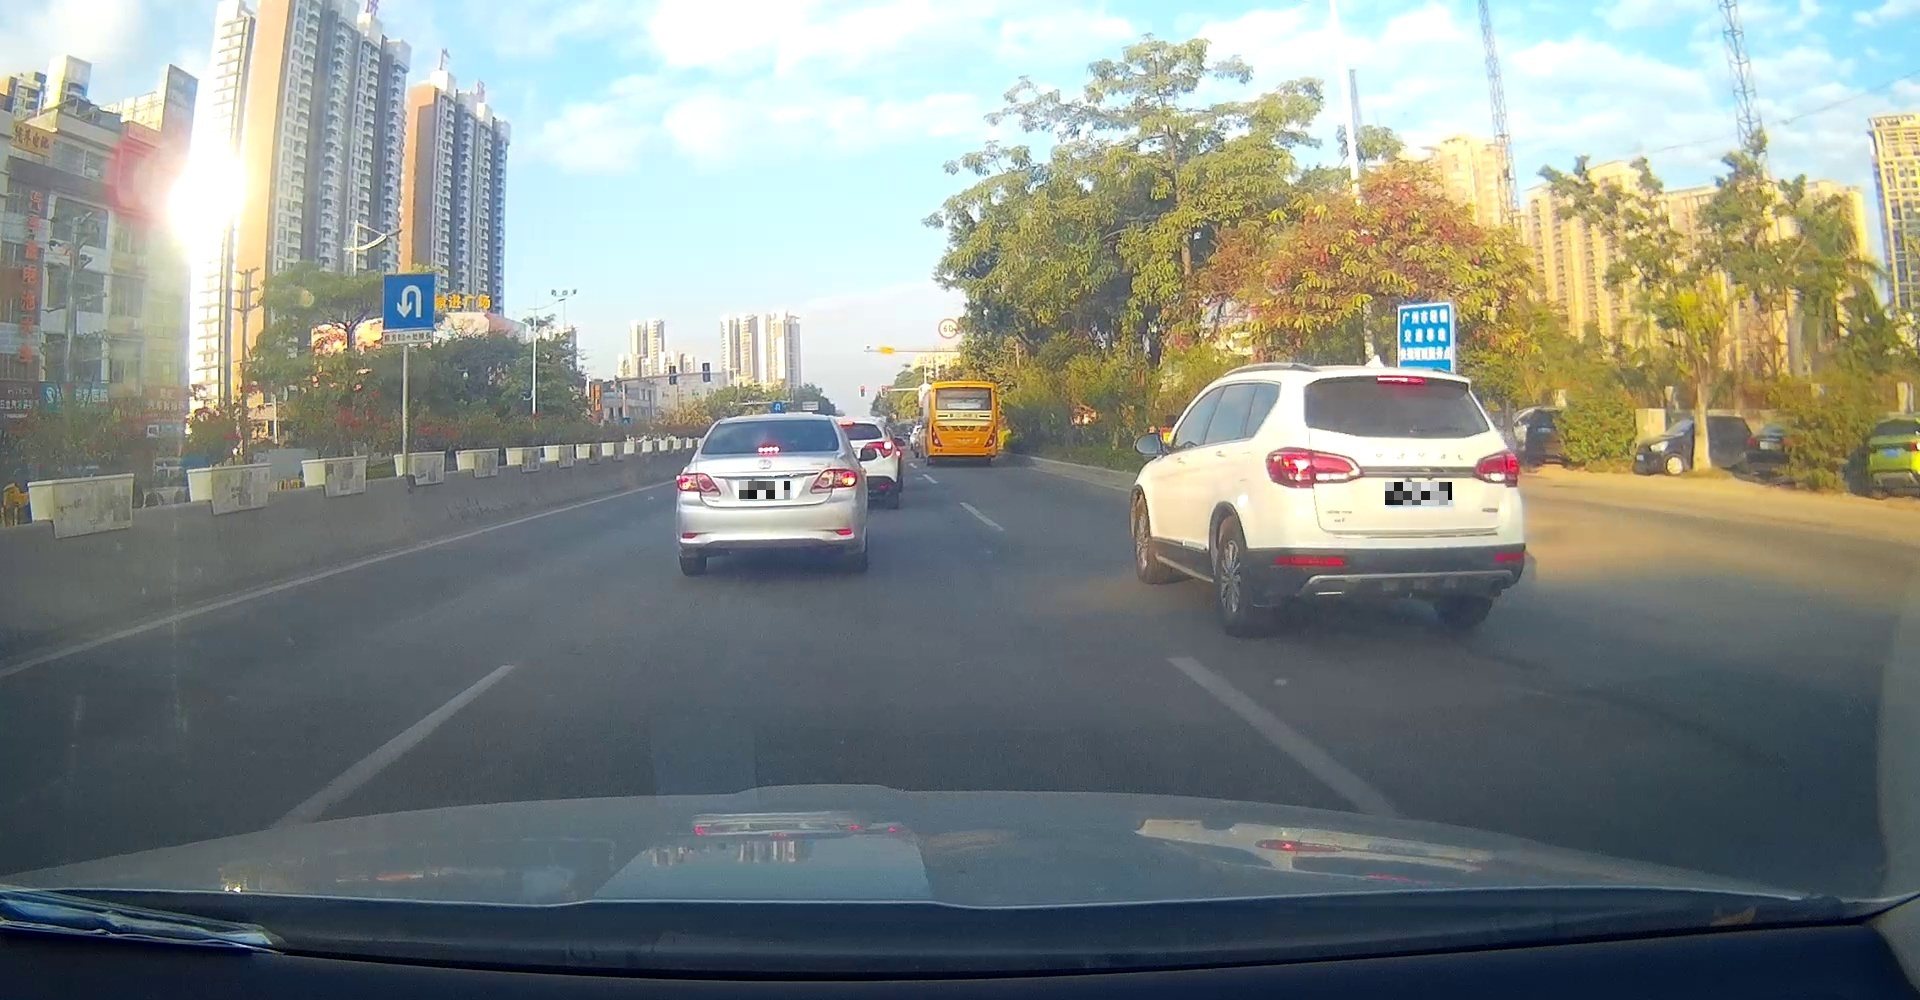L_light: (1263, 445, 1363, 489), (676, 473, 720, 492), (931, 424, 942, 447), (1865, 444, 1876, 454)
R_light: (1470, 448, 1521, 489), (811, 470, 858, 489), (984, 426, 996, 447), (1909, 442, 1920, 451)
T_light: (1377, 376, 1426, 385), (758, 445, 780, 453), (956, 385, 974, 387), (1890, 421, 1903, 423)
day-brake: (1263, 365, 1525, 638), (676, 414, 858, 575)
day-no: (928, 381, 997, 466)
day-right: (1865, 418, 1920, 499)
plate_1: (739, 481, 790, 499)
plate_2: (1385, 482, 1451, 505)
